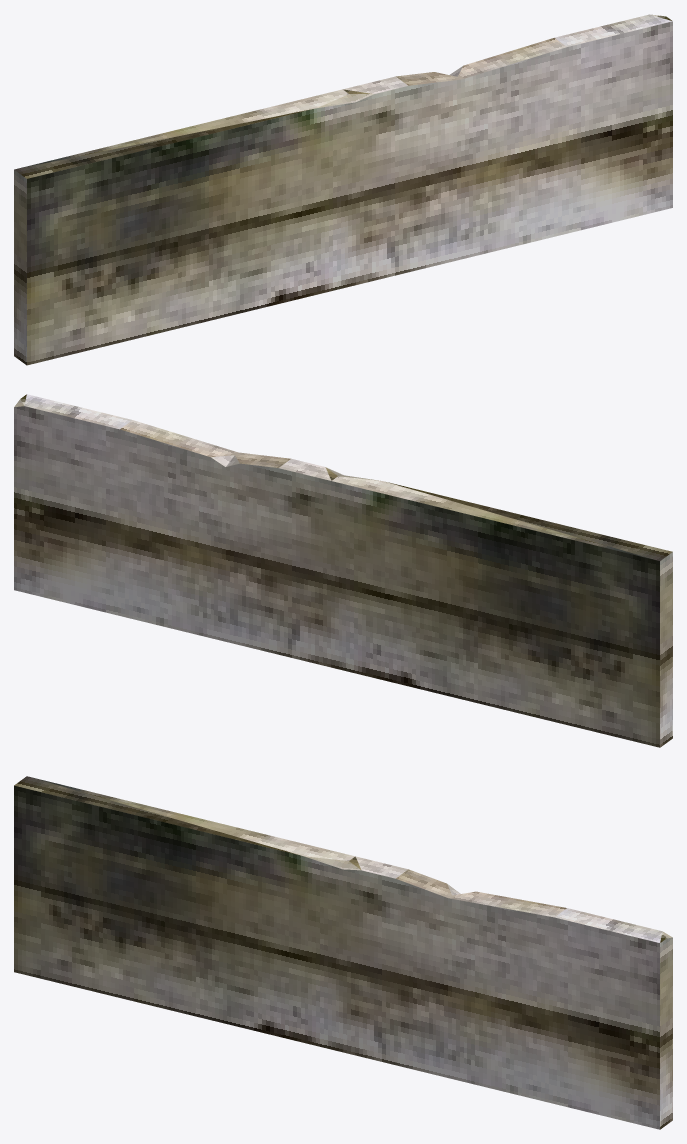
Rendered from lf_plackard_slab_wood_patched.glb.
The picture shows the model from 3 angles, top to bottom: view 1: azimuth 30°, elevation 25°; view 2: azimuth 150°, elevation 25°; view 3: azimuth 330°, elevation 25°; orthographic projection.
Parts seen in each view (by area): view 1: plackard_slab_wood_patched; view 2: plackard_slab_wood_patched; view 3: plackard_slab_wood_patched.
Part boxes in pixels (x1,y1,x2,y2): plackard_slab_wood_patched: (14,14,672,365); plackard_slab_wood_patched: (14,394,672,747); plackard_slab_wood_patched: (14,776,672,1129).
Bounding box in the file's own units: 2.9 × 0.8002 × 0.0998.
1 material, 1 textured.
